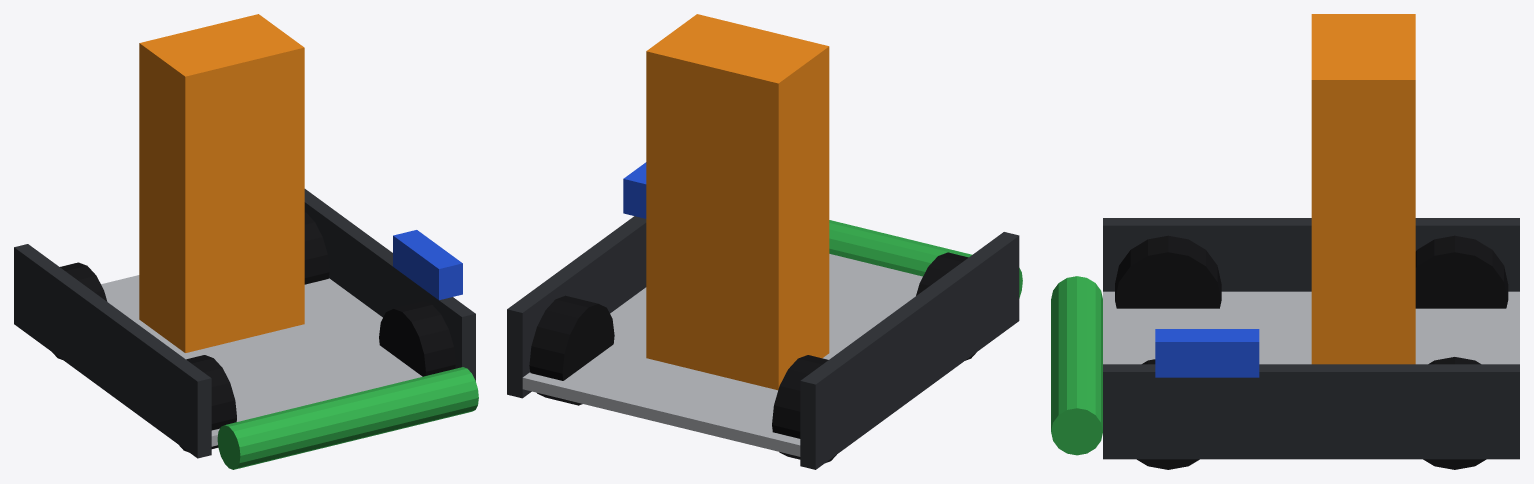
Rendered from robot.obj.
3 views of the same model, side by side, from view 1: azimuth 30°, elevation 25°; view 2: azimuth 150°, elevation 25°; view 3: azimuth 270°, elevation 25° (orthographic). The views are drawn at different scales.
Visible parts, largest first — view 1: tower, rail_right, belly, intake, rail_left, wheel_5.5_5.5, flag, wheel_5.5_-5.5, wheel_-5.5_5.5, wheel_-5.5_-5.5; view 2: tower, rail_right, belly, rail_left, wheel_-5.5_5.5, intake, wheel_-5.5_-5.5, flag, wheel_5.5_-5.5; view 3: rail_left, tower, belly, rail_right, intake, wheel_5.5_-5.5, wheel_-5.5_-5.5, flag, wheel_-5.5_5.5, wheel_5.5_5.5.
Boxes of the visible parts, x1=… form: tower: x1=139, y1=14, x2=304, y2=352; rail_right: x1=14, y1=244, x2=211, y2=458; belly: x1=101, y1=275, x2=422, y2=446; intake: x1=217, y1=367, x2=478, y2=469; rail_left: x1=304, y1=189, x2=475, y2=381; wheel_5.5_5.5: x1=379, y1=301, x2=455, y2=376; flag: x1=393, y1=230, x2=462, y2=300; wheel_5.5_-5.5: x1=179, y1=355, x2=236, y2=452; wheel_-5.5_5.5: x1=304, y1=212, x2=329, y2=284; wheel_-5.5_-5.5: x1=52, y1=262, x2=107, y2=359; tower: x1=646, y1=14, x2=829, y2=390; rail_right: x1=800, y1=232, x2=1019, y2=469; belly: x1=522, y1=254, x2=922, y2=456; rail_left: x1=507, y1=216, x2=646, y2=398; wheel_-5.5_5.5: x1=529, y1=295, x2=614, y2=405; intake: x1=829, y1=220, x2=1022, y2=298; wheel_-5.5_-5.5: x1=772, y1=355, x2=836, y2=463; flag: x1=623, y1=162, x2=646, y2=218; wheel_5.5_-5.5: x1=916, y1=252, x2=976, y2=360; rail_left: x1=1103, y1=364, x2=1519, y2=459; tower: x1=1311, y1=14, x2=1415, y2=364; belly: x1=1103, y1=291, x2=1519, y2=364; rail_right: x1=1103, y1=218, x2=1519, y2=291; intake: x1=1051, y1=276, x2=1102, y2=455; wheel_5.5_-5.5: x1=1115, y1=235, x2=1221, y2=308; wheel_-5.5_-5.5: x1=1415, y1=235, x2=1508, y2=308; flag: x1=1155, y1=329, x2=1259, y2=377; wheel_-5.5_5.5: x1=1423, y1=357, x2=1486, y2=469; wheel_5.5_5.5: x1=1137, y1=359, x2=1199, y2=469.
Bounding box in the file's own units: 14.5 × 15 × 18.
